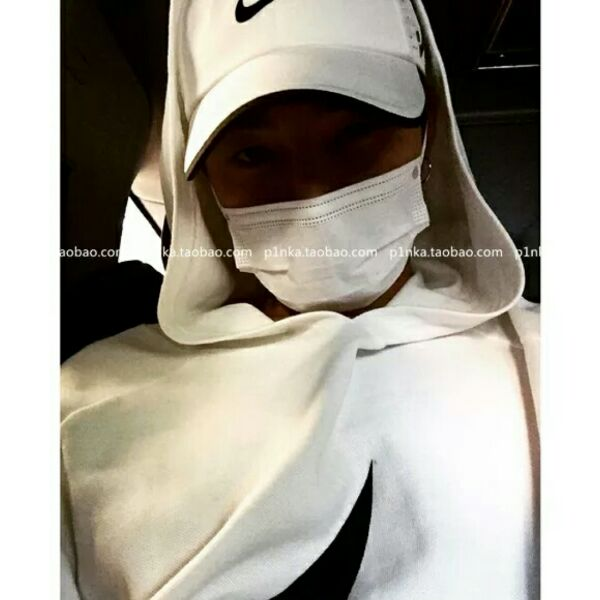face_mask: (219, 74, 414, 312)
